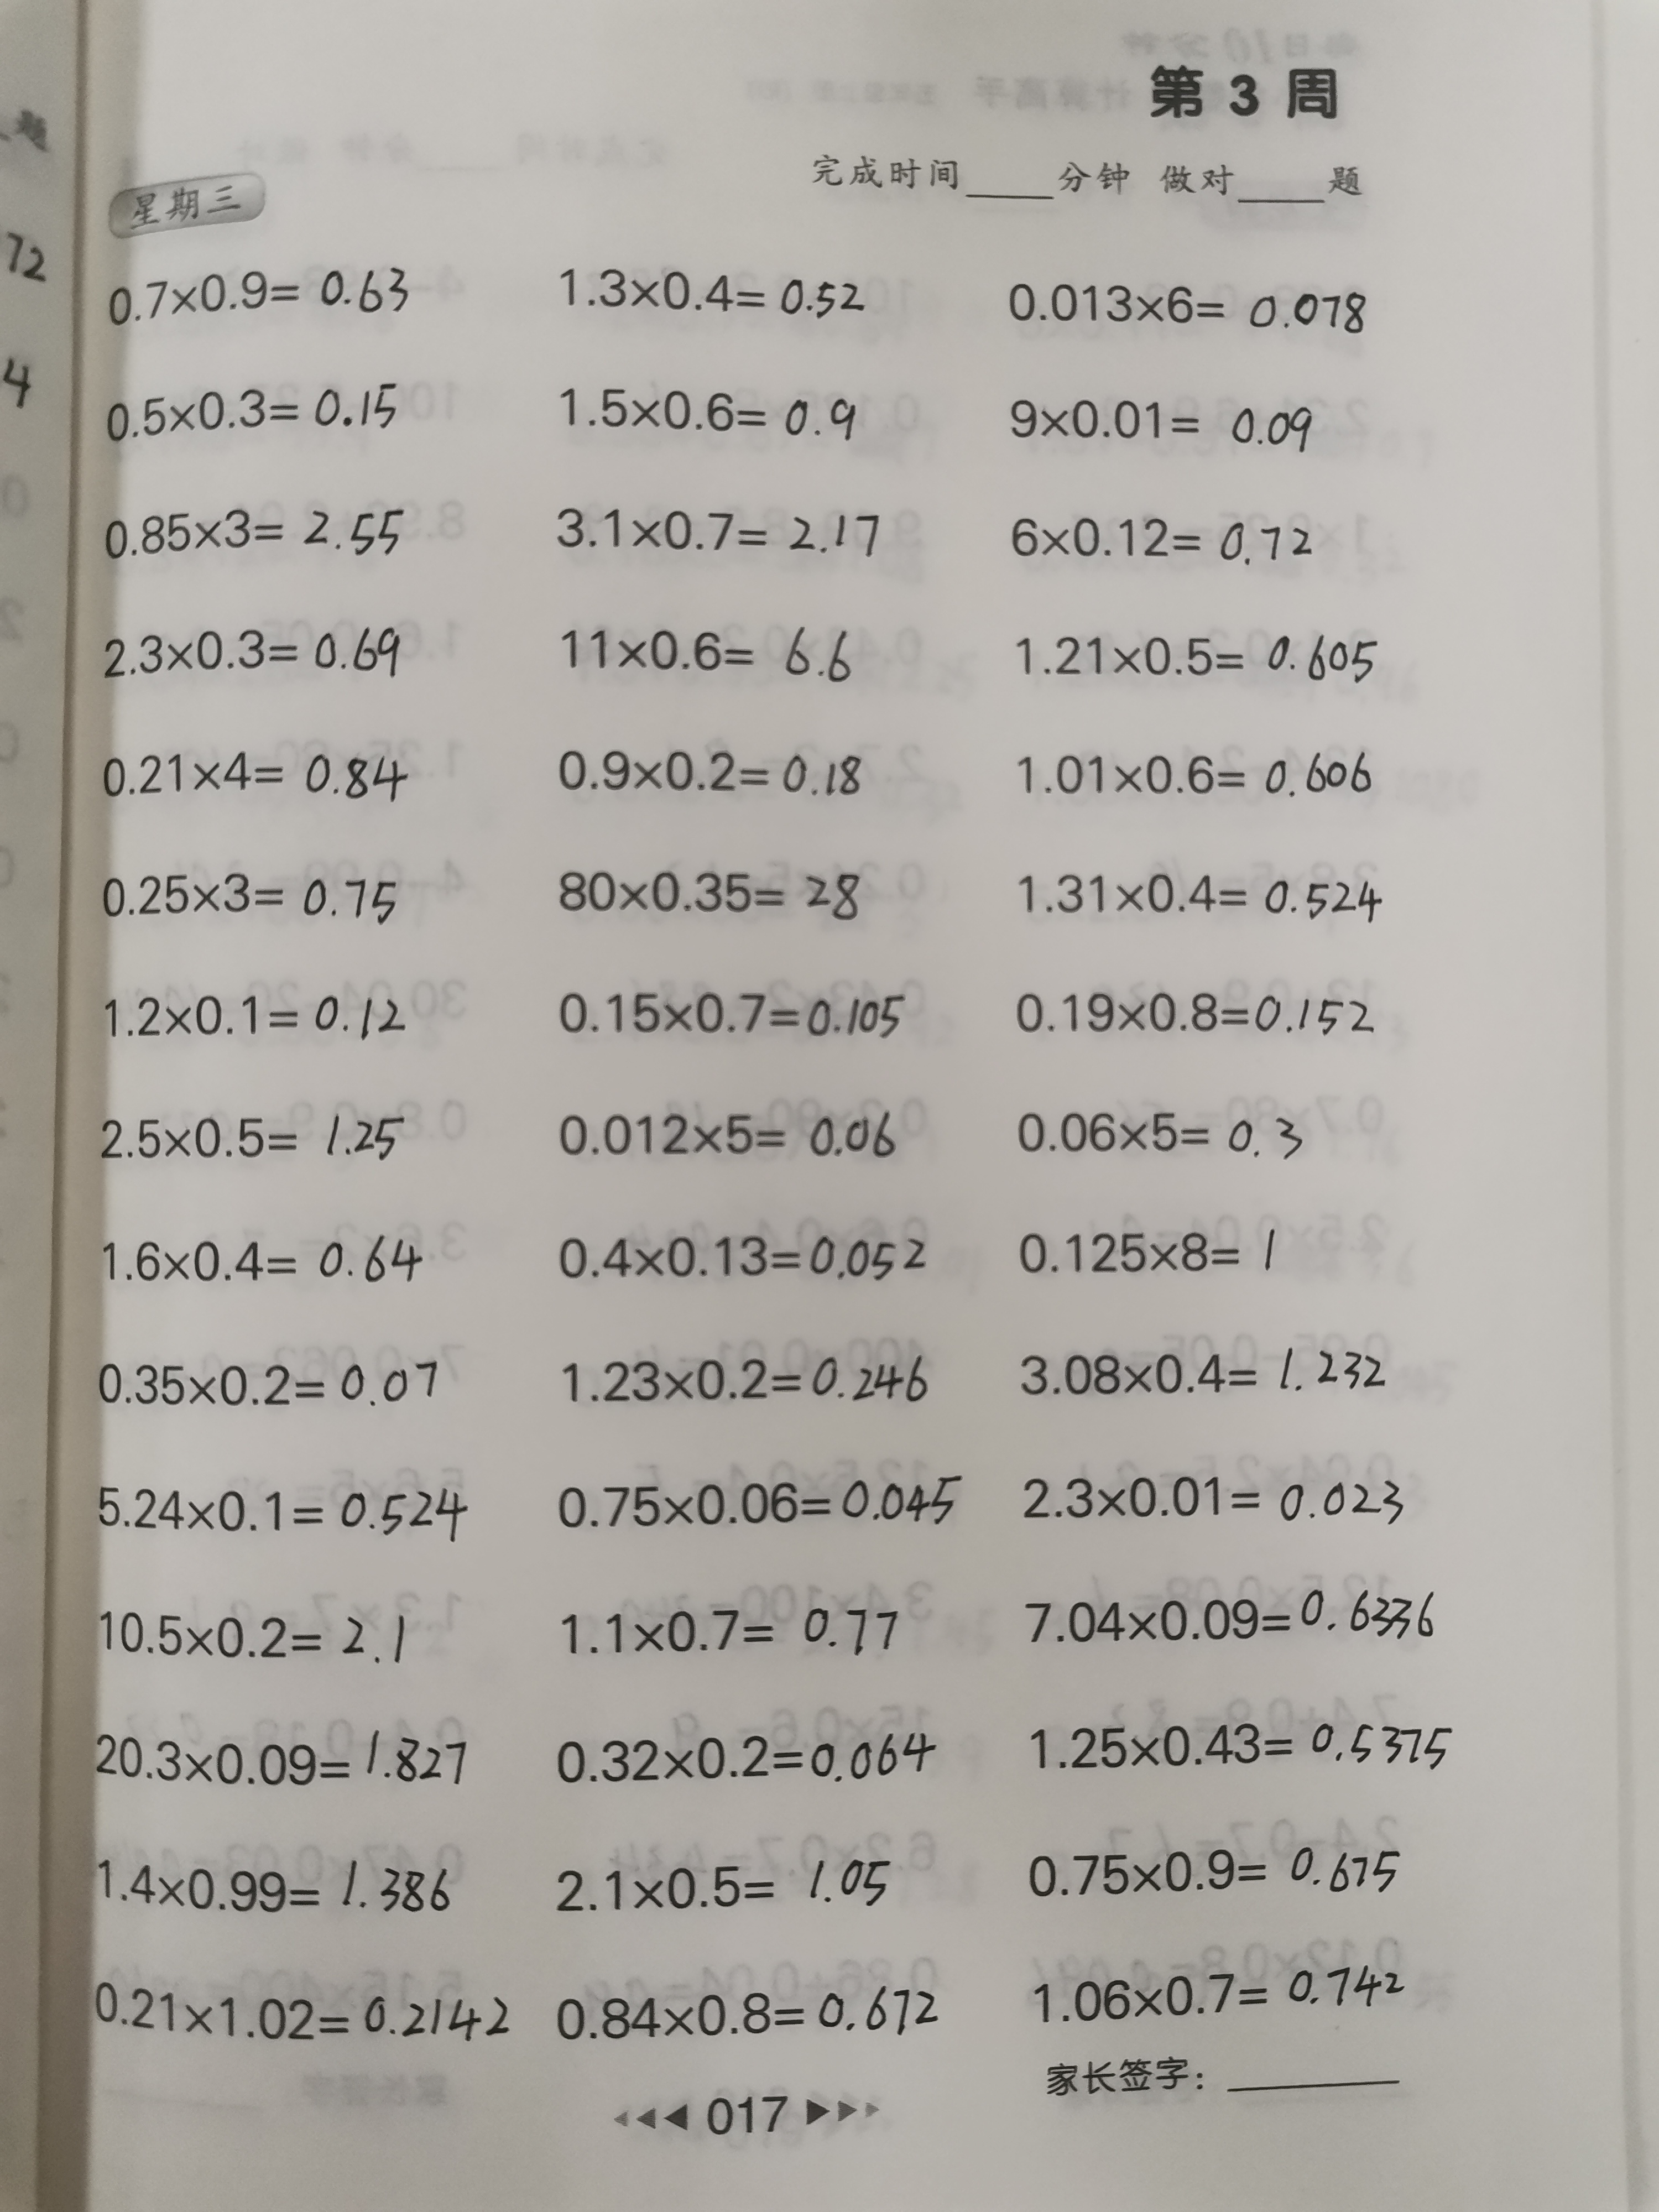equation: (75, 1963, 519, 2055), (84, 1467, 493, 1561), (1006, 1705, 1464, 1785), (1002, 1573, 1455, 1653), (997, 1451, 1422, 1536), (85, 1707, 483, 1797), (997, 726, 1392, 817), (544, 1458, 972, 1540), (78, 1836, 472, 1925), (542, 1716, 953, 1799), (540, 484, 896, 580), (544, 1966, 953, 2048), (992, 968, 1396, 1050), (1007, 1947, 1420, 2027), (547, 1338, 948, 1420), (542, 253, 884, 347), (84, 852, 416, 948), (995, 855, 1401, 934), (535, 1581, 917, 1663), (1007, 1831, 1422, 1905), (986, 272, 1382, 350), (540, 1221, 939, 1298), (1012, 1332, 1399, 1411), (540, 1848, 931, 1925), (1002, 620, 1389, 697), (544, 606, 870, 697), (999, 381, 1331, 469), (89, 1590, 422, 1677), (535, 1096, 922, 1170), (530, 728, 875, 812), (89, 608, 413, 697), (542, 974, 920, 1049), (542, 373, 871, 458), (87, 486, 416, 571), (87, 1343, 469, 1416), (990, 496, 1323, 580), (96, 1221, 439, 1301), (89, 737, 420, 813), (1000, 1094, 1323, 1172), (85, 373, 422, 448), (92, 256, 422, 331), (538, 859, 875, 930), (92, 1103, 416, 1176), (91, 979, 422, 1047), (1006, 1211, 1310, 1284)
